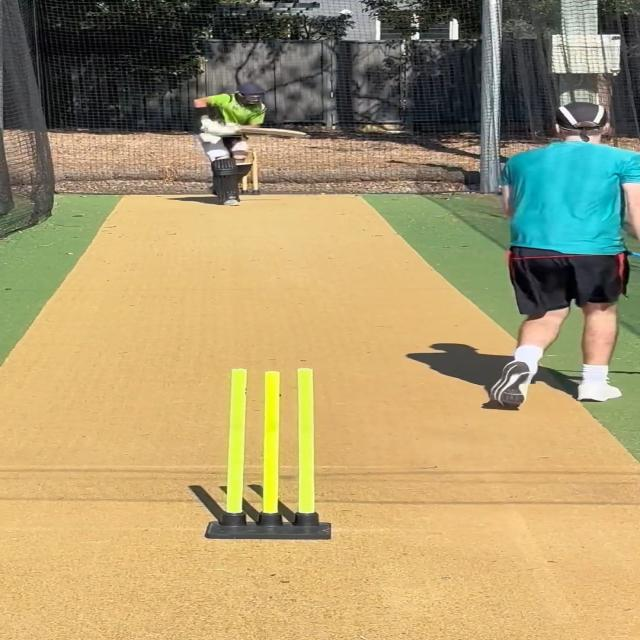stump: (206, 364, 330, 540)
